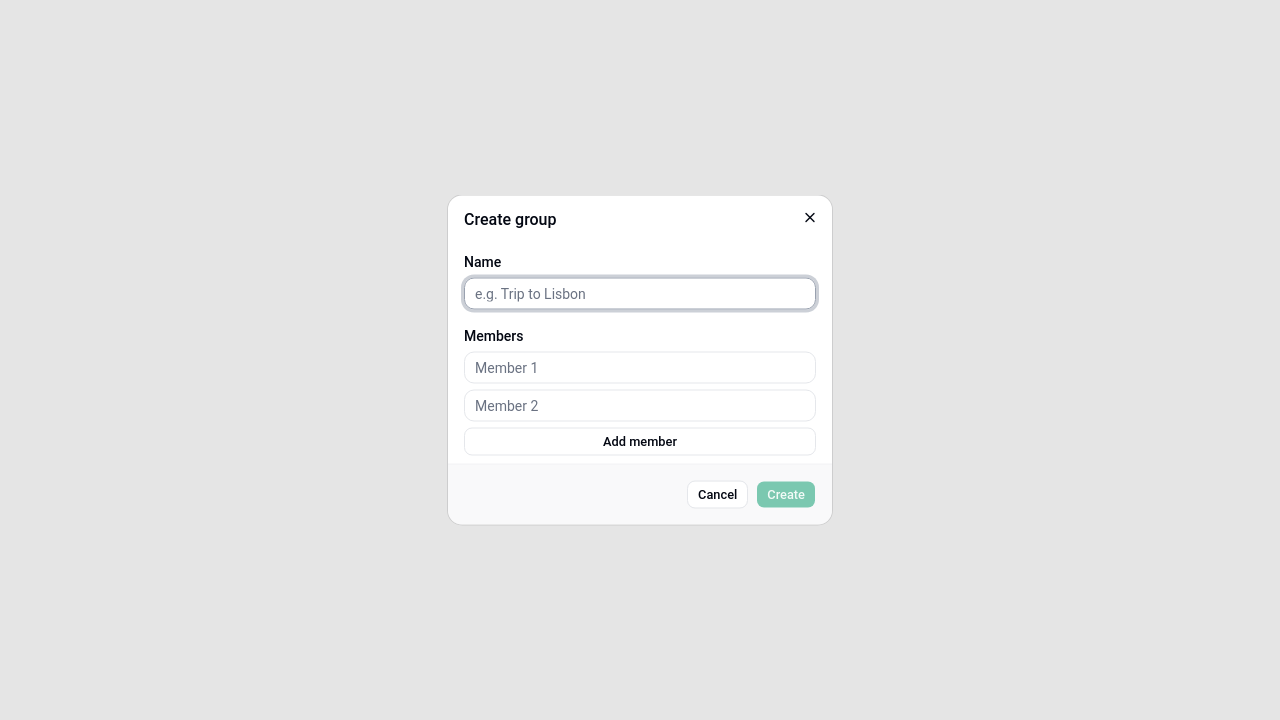
Test: AddGroupModal › validation › Create is enabled with valid name and 2 valid member names
Type "Trip" into the field with placeholder "e.g. Trip to Lisbon" at {"x": 640, "y": 294}, box [464, 278, 816, 310]
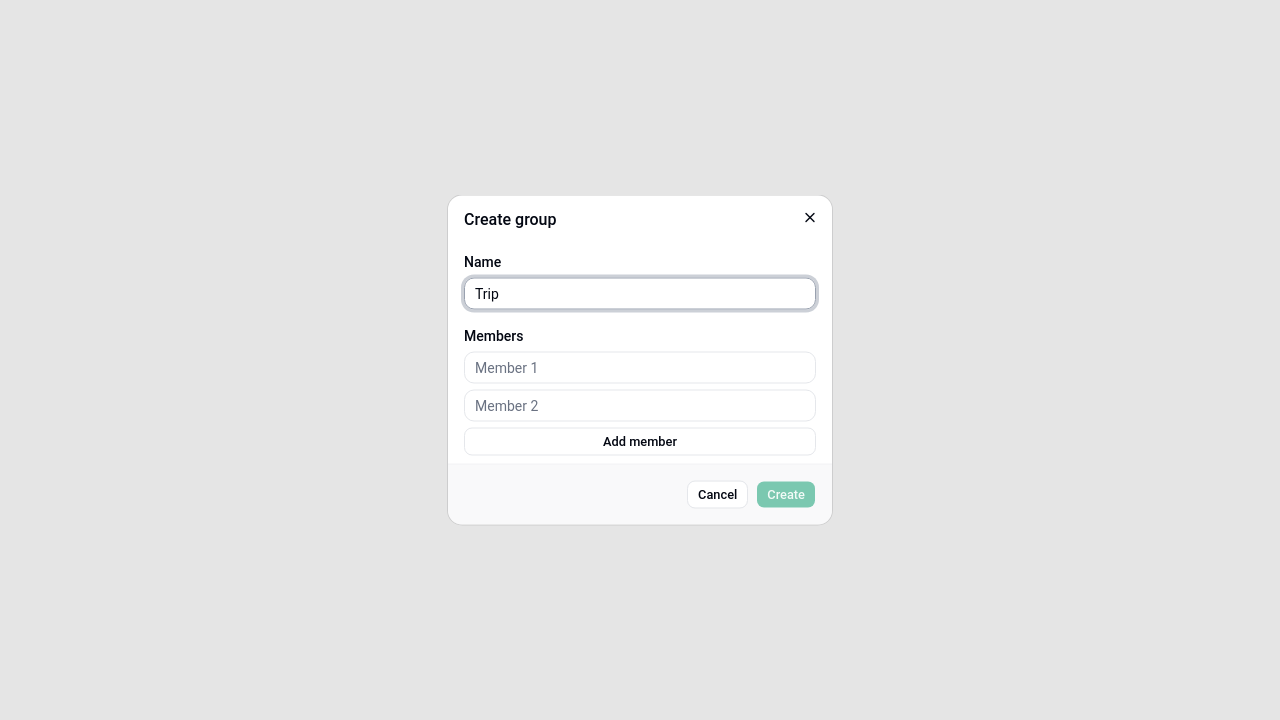
Type "Alice" into the field with placeholder "Member 1" at {"x": 640, "y": 368}, box [464, 352, 816, 384]
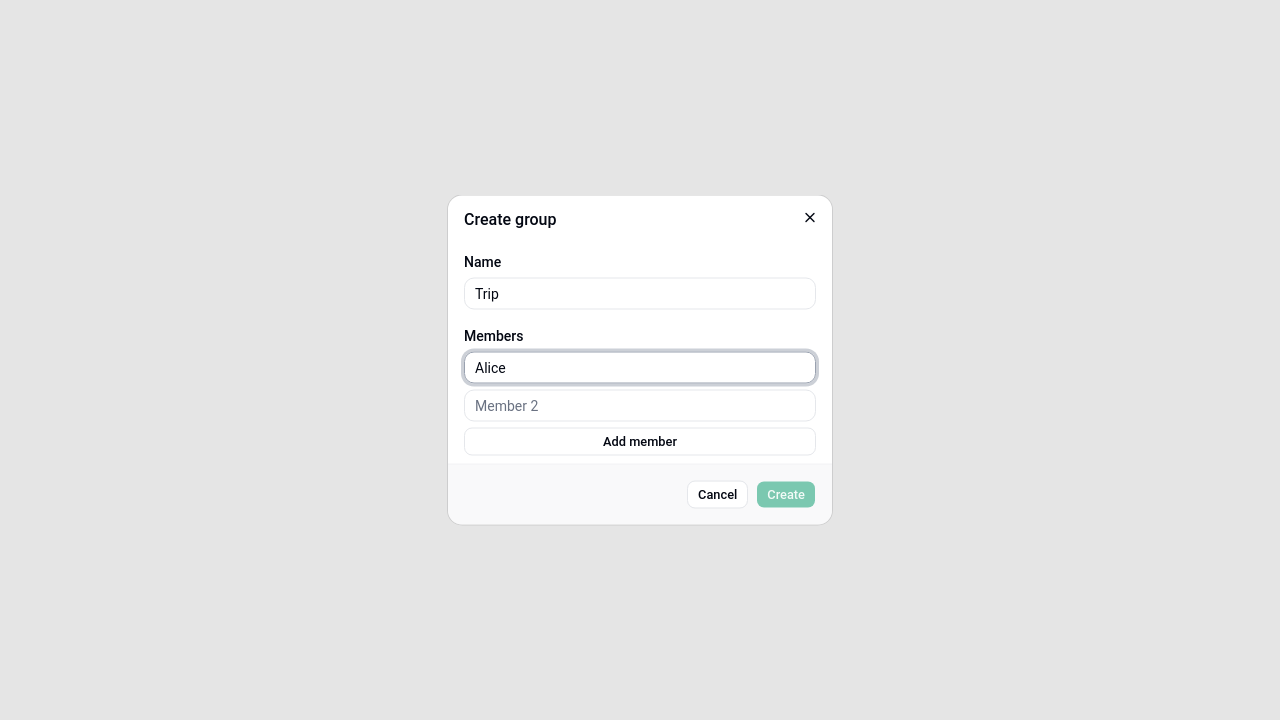
Type "Bob" into the field with placeholder "Member 2" at {"x": 640, "y": 406}, box [464, 390, 816, 422]
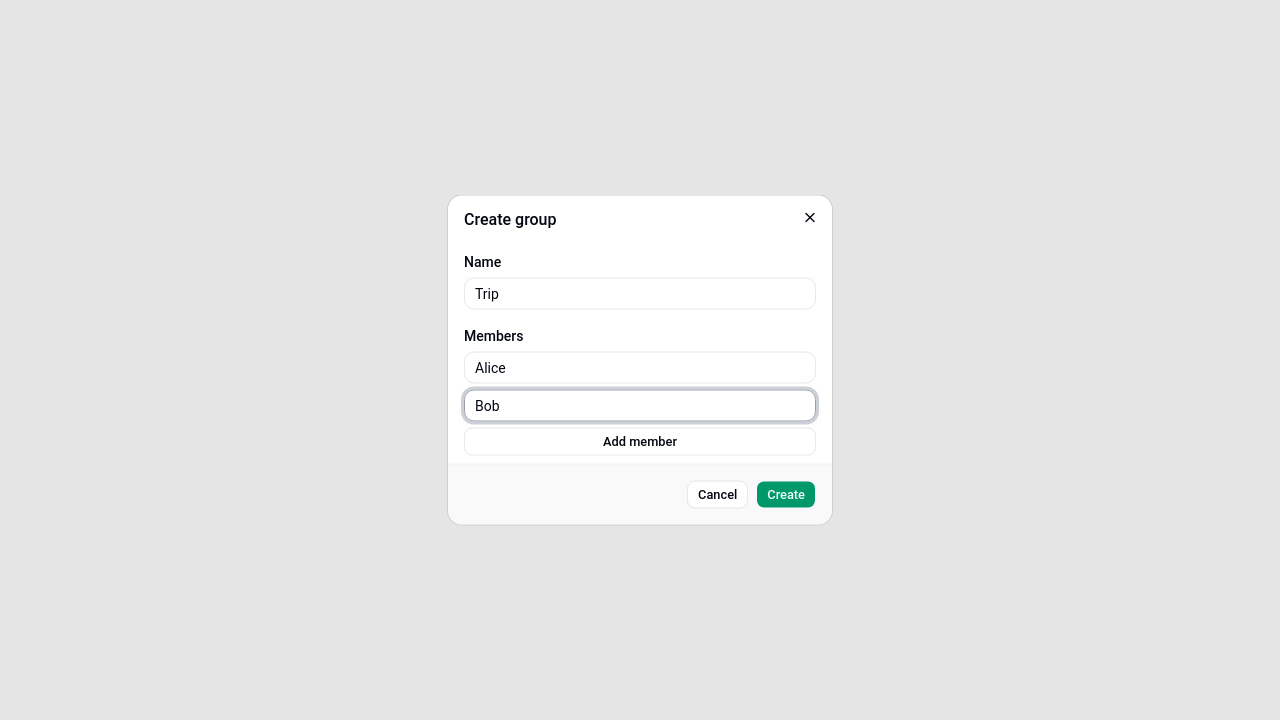
Expected: the button "Create" is enabled, [756, 480, 816, 508]
